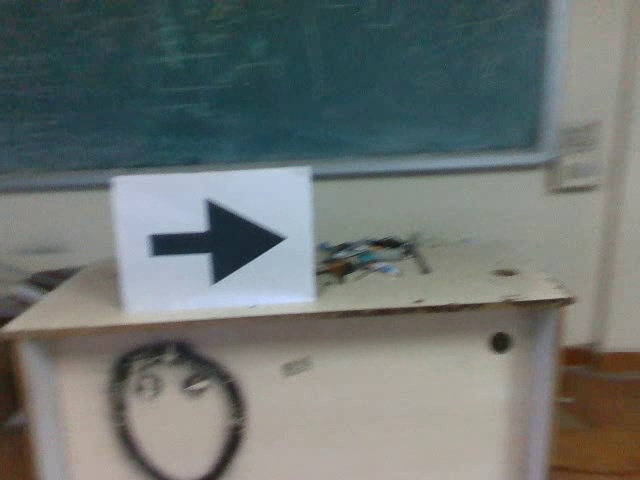Right: (138, 195, 290, 289)
